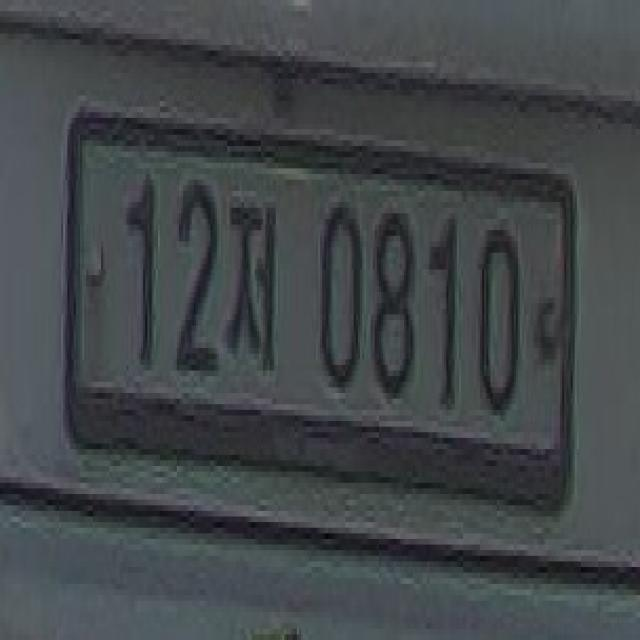0: (474, 213, 528, 432), (314, 191, 364, 393)
1: (419, 202, 469, 432), (124, 152, 162, 376)
2: (171, 152, 223, 398)
8: (366, 208, 419, 398)
jeo: (225, 191, 282, 387)
license_plate: (59, 96, 583, 522)
